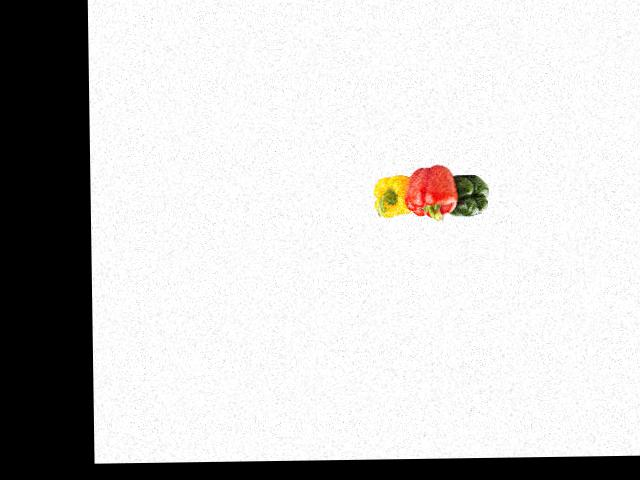bell_pepper: (370, 166, 414, 222)
